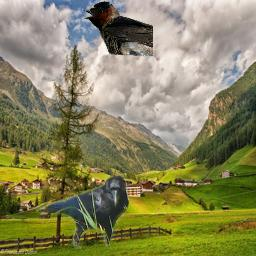Crow: (35, 175, 129, 249)
Swallow: (82, 1, 153, 57)
